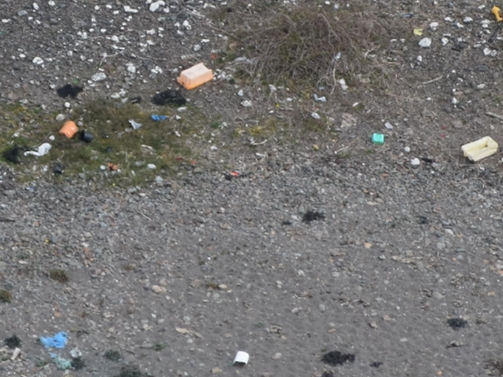scattered_barrel: (363, 1, 501, 168), (1, 67, 119, 174), (122, 60, 222, 138), (1, 306, 95, 377), (212, 330, 269, 377)
